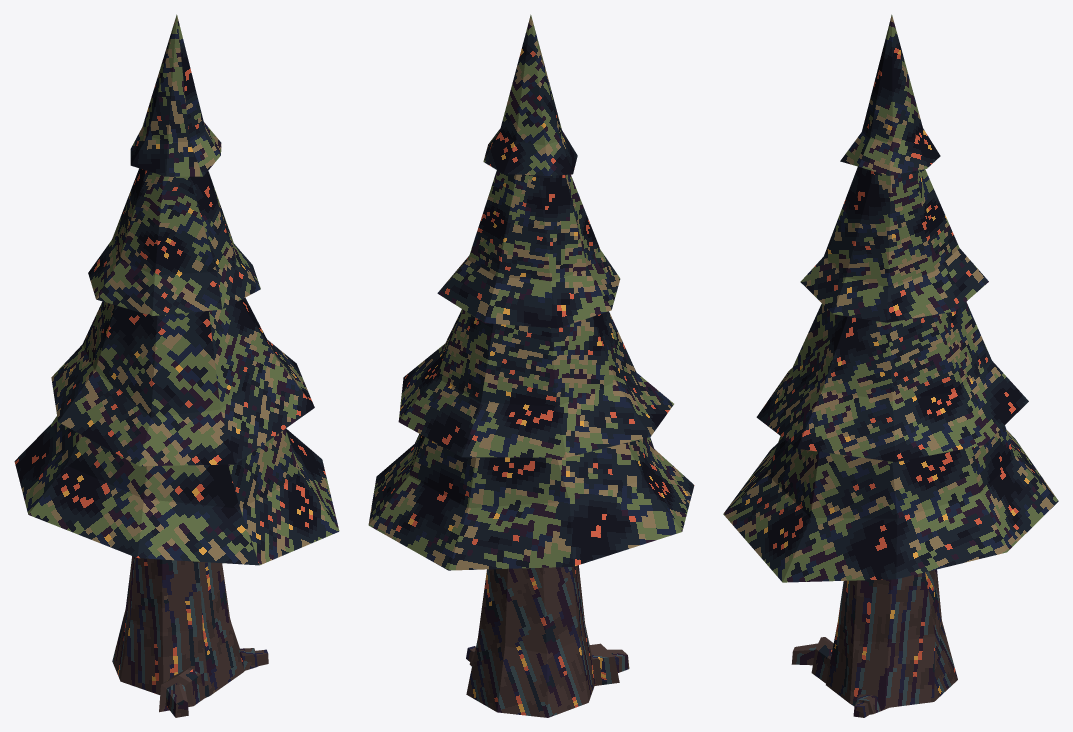
File: charred_tree_large.fbx
The picture shows the model from 3 angles, left to right: view 1: azimuth 30°, elevation 25°; view 2: azimuth 150°, elevation 25°; view 3: azimuth 270°, elevation 25°; orthographic projection. The views are drawn at different scales.
Visible parts, largest first — view 1: Charred_Large_Tree; view 2: Charred_Large_Tree; view 3: Charred_Large_Tree.
Part boxes in pixels (x1,y1,x2,y2): Charred_Large_Tree: (14, 14, 339, 717); Charred_Large_Tree: (368, 14, 694, 717); Charred_Large_Tree: (723, 14, 1058, 717).
Bounding box in the file's own units: 531 × 1140 × 514.
Materials: 2 (2 with a texture image).
